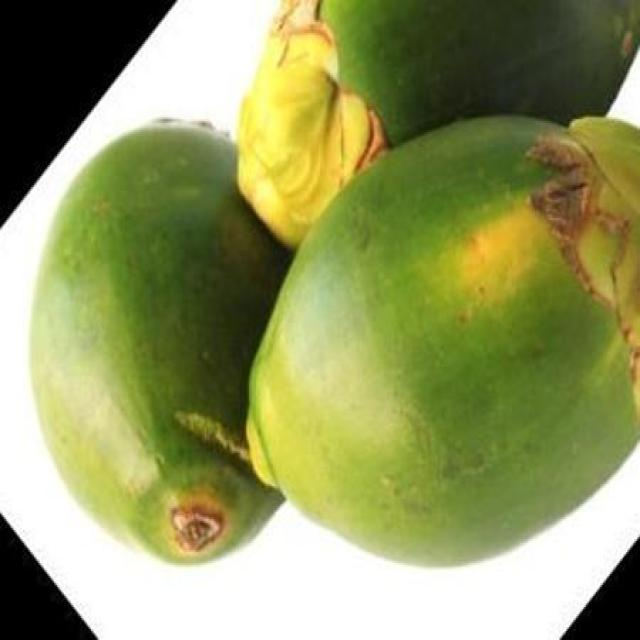good: (243, 116, 639, 572), (24, 117, 296, 572), (235, 0, 639, 251)
